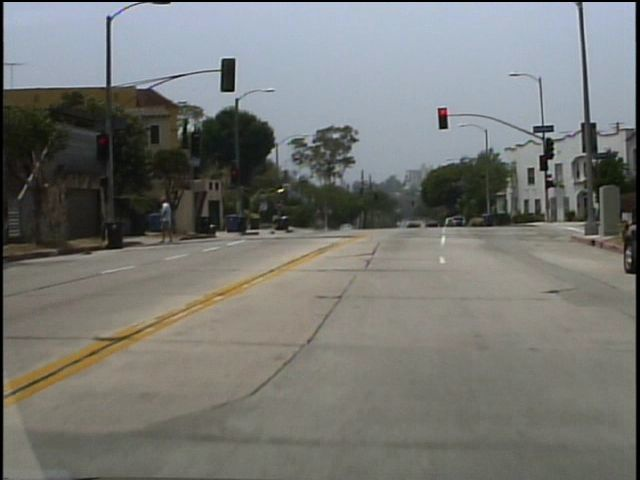person: (163, 195, 183, 243), (168, 201, 180, 243)
